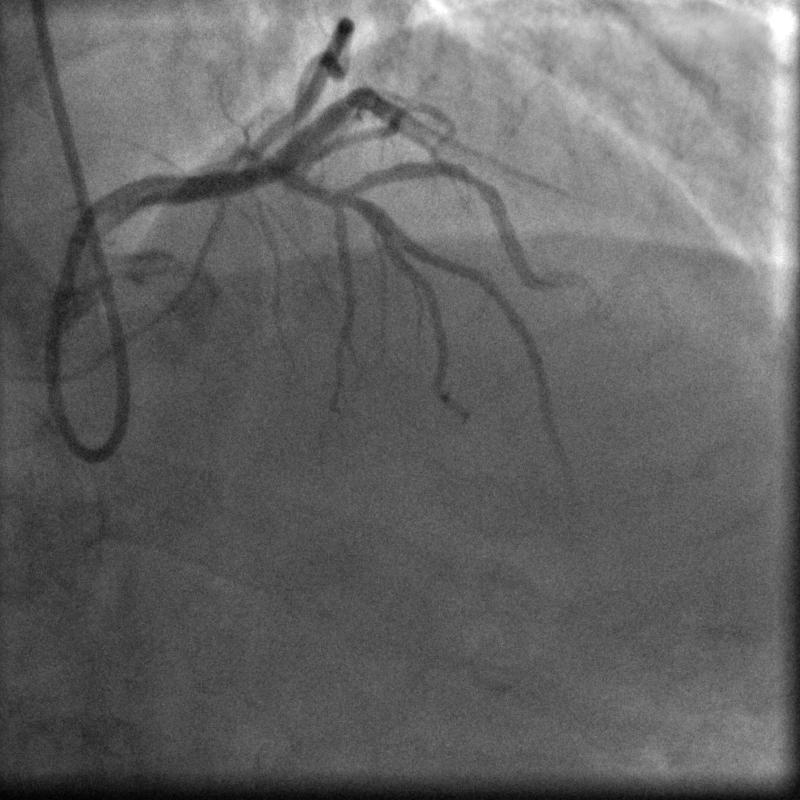Stenosis: (453, 157, 494, 203)
